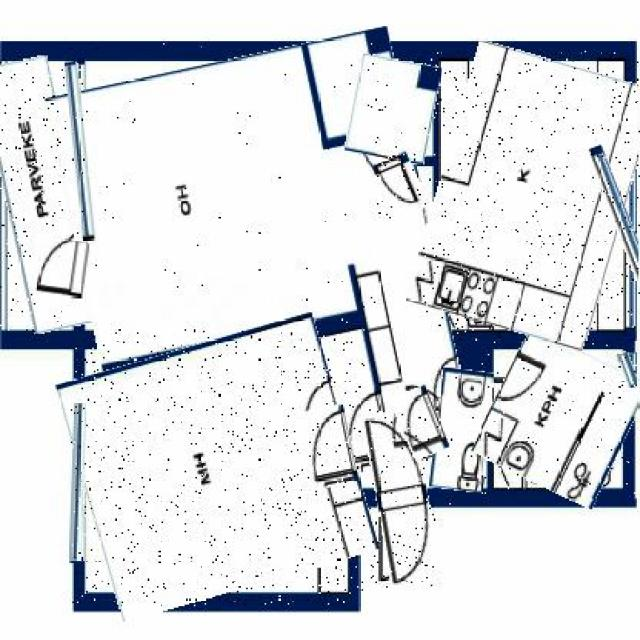door: (370, 408, 436, 588), (294, 406, 355, 489), (32, 240, 88, 298), (397, 388, 443, 457), (377, 154, 423, 215)
window: (604, 143, 640, 329), (69, 62, 91, 240), (71, 403, 86, 563), (620, 352, 637, 388)
zone: (67, 43, 456, 505), (70, 329, 364, 606), (423, 49, 640, 340), (483, 338, 640, 498), (0, 57, 86, 332), (349, 57, 438, 161), (432, 369, 492, 491)
